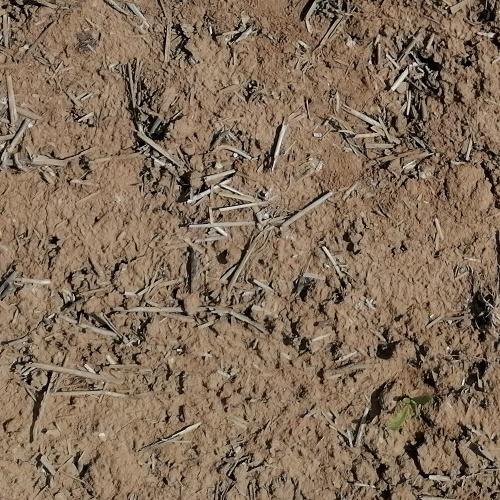beet: (390, 394, 434, 431)
